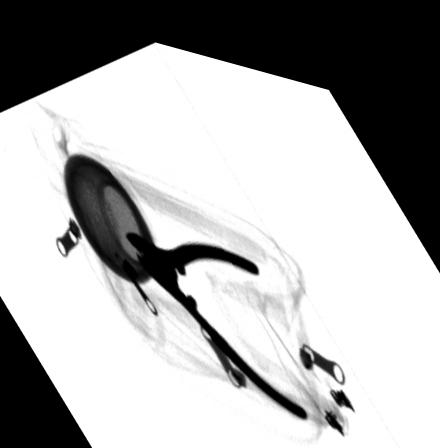Pliers: (123, 224, 308, 403)
